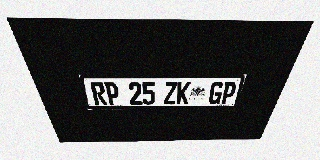2: (128, 82, 142, 105)
5: (142, 82, 155, 105)
G: (208, 82, 225, 104)
K: (176, 82, 191, 104)
P: (220, 82, 238, 104), (104, 82, 120, 105)
R: (90, 82, 108, 105)
Z: (164, 82, 177, 105)
